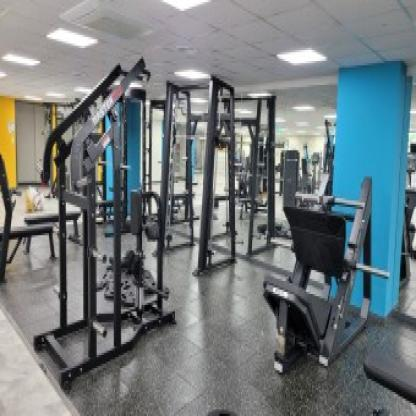chinning dipping: (24, 108, 190, 379)
